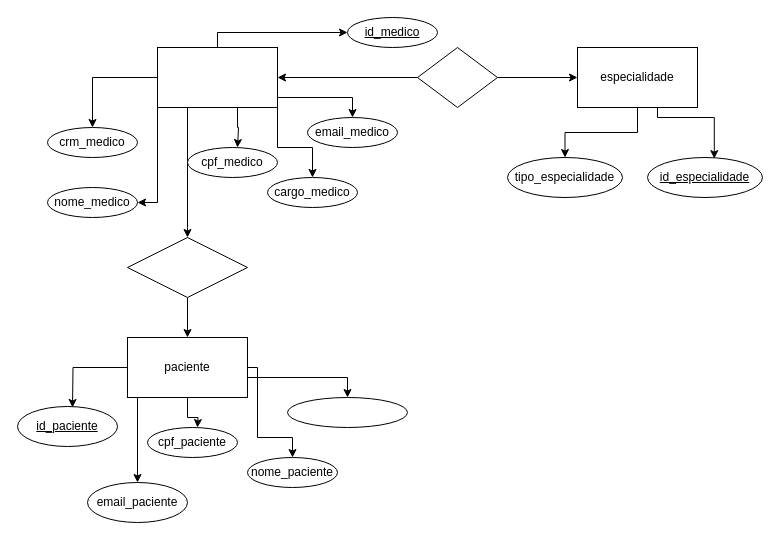
Some shapes in this 780 by 540 pixel diagram are drawn without their labels. The centre of each missing label's shape, as x and y in pixels:
"atende" goes at point 187,267.
"endereço_paciente" goes at point 347,412.
"medico" goes at point 217,77.
"TEM" goes at point 457,77.
